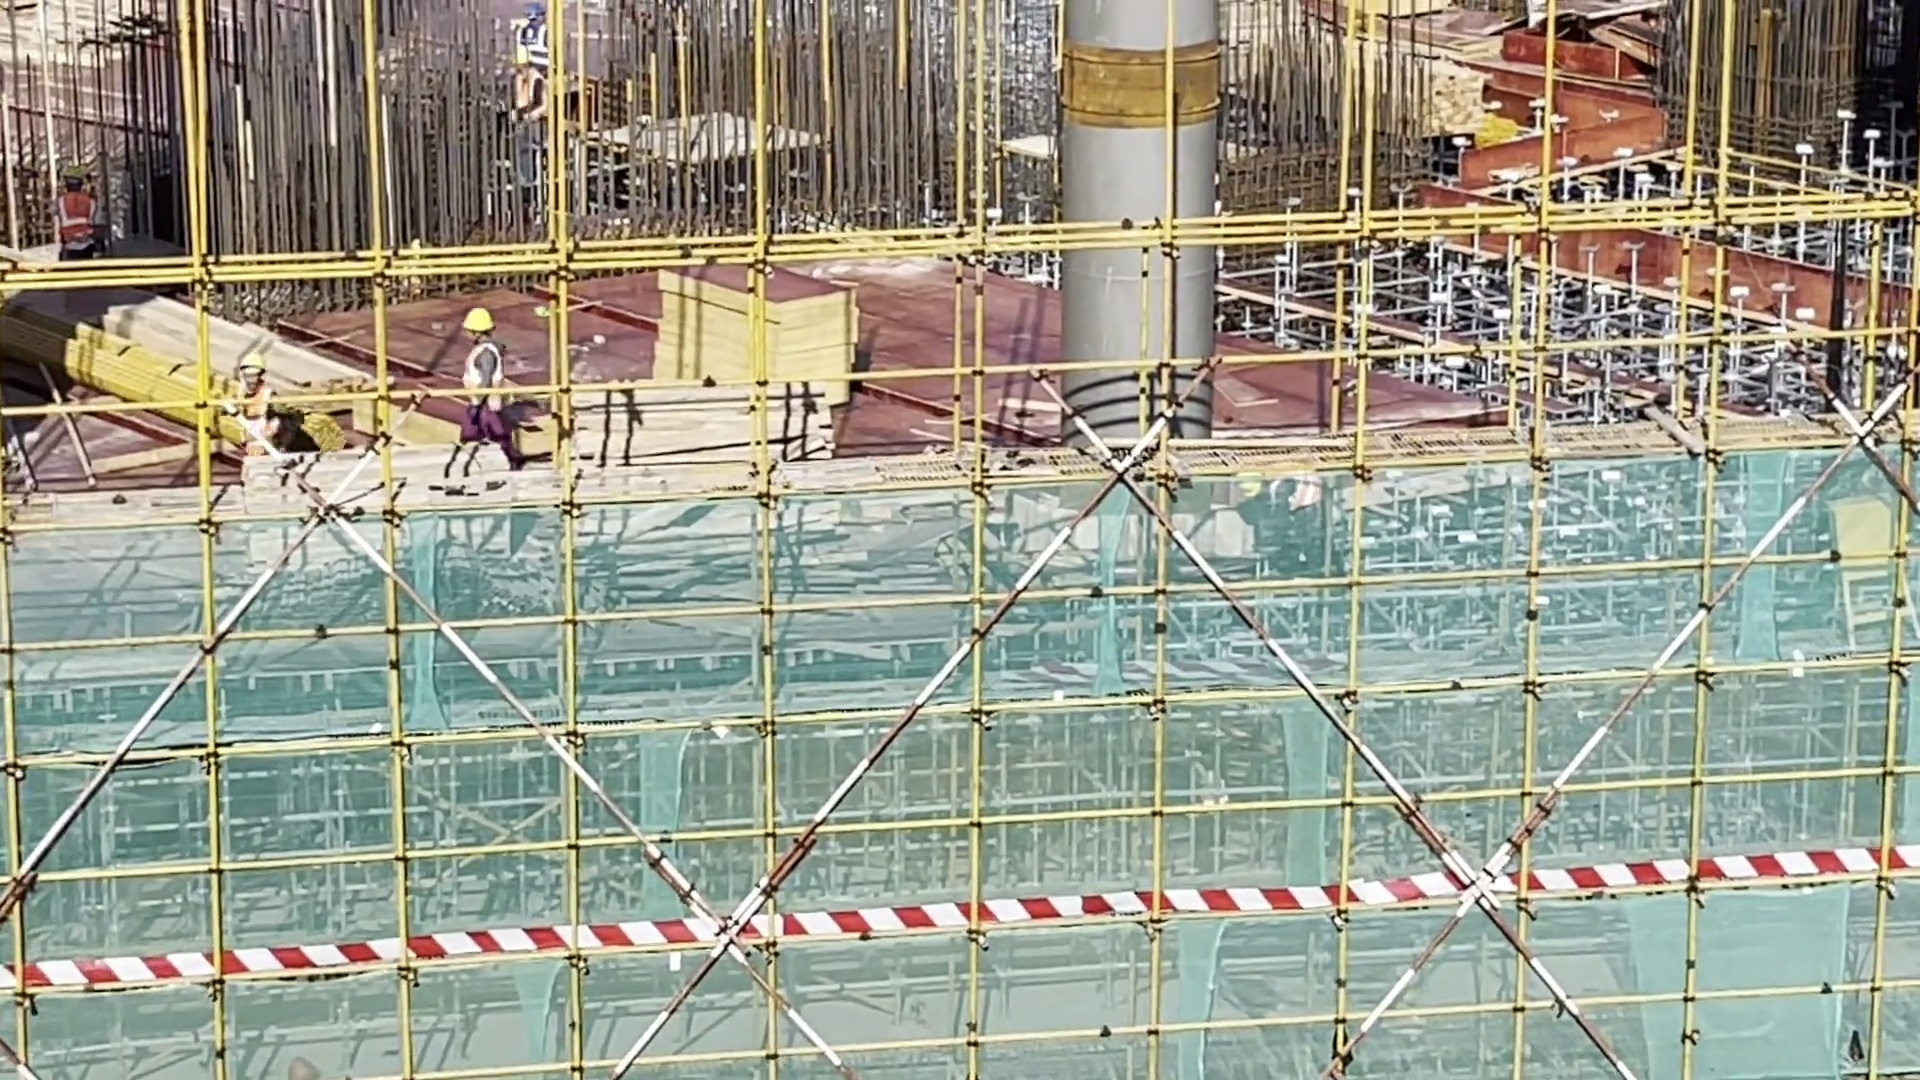helmet: (458, 308, 509, 338), (233, 353, 268, 381), (509, 42, 532, 69), (60, 165, 89, 183)
person: (448, 305, 519, 488), (222, 345, 292, 476), (49, 160, 99, 265), (504, 45, 555, 138)
vest: (50, 189, 113, 244), (457, 344, 510, 410), (237, 389, 282, 444), (515, 75, 545, 109)
